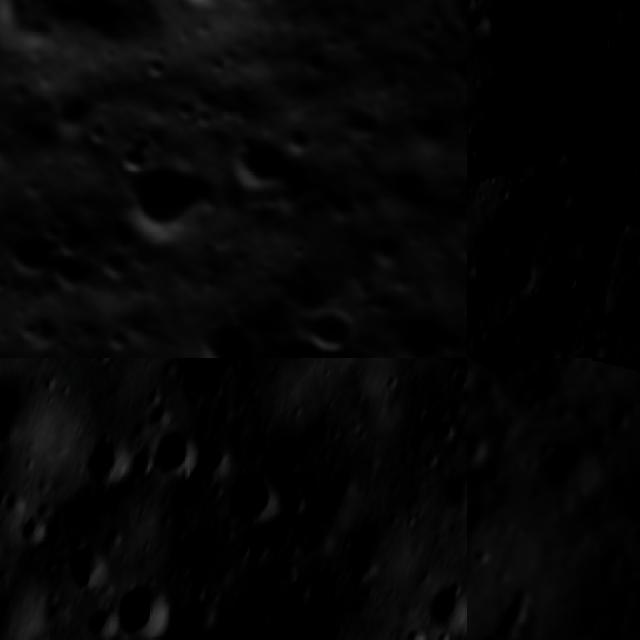crater: (114, 140, 221, 248), (520, 422, 618, 519), (177, 300, 280, 358), (285, 292, 362, 358), (230, 126, 296, 192), (112, 572, 178, 638), (329, 94, 392, 157), (154, 412, 214, 478), (224, 472, 290, 529), (77, 430, 137, 491), (40, 244, 100, 304), (498, 244, 556, 306), (354, 226, 411, 283), (5, 221, 62, 277), (471, 0, 548, 37), (198, 432, 246, 482), (591, 399, 638, 447), (184, 581, 221, 640), (292, 41, 338, 87), (19, 308, 65, 354), (493, 596, 539, 640), (572, 98, 612, 148), (429, 579, 467, 630), (164, 0, 235, 27), (542, 160, 588, 200), (467, 422, 497, 483), (77, 596, 118, 640), (98, 242, 140, 284), (18, 508, 55, 550), (467, 358, 493, 417), (83, 115, 118, 151), (467, 538, 498, 578), (187, 100, 221, 134), (282, 122, 316, 156), (101, 325, 134, 358), (252, 185, 284, 218), (168, 90, 200, 122), (141, 50, 174, 81), (626, 477, 640, 546), (205, 49, 236, 80), (403, 5, 432, 36), (550, 358, 601, 375), (448, 80, 467, 125), (623, 420, 640, 468), (0, 260, 18, 305), (585, 358, 640, 372), (283, 234, 310, 261), (541, 0, 584, 13), (478, 358, 512, 370)
